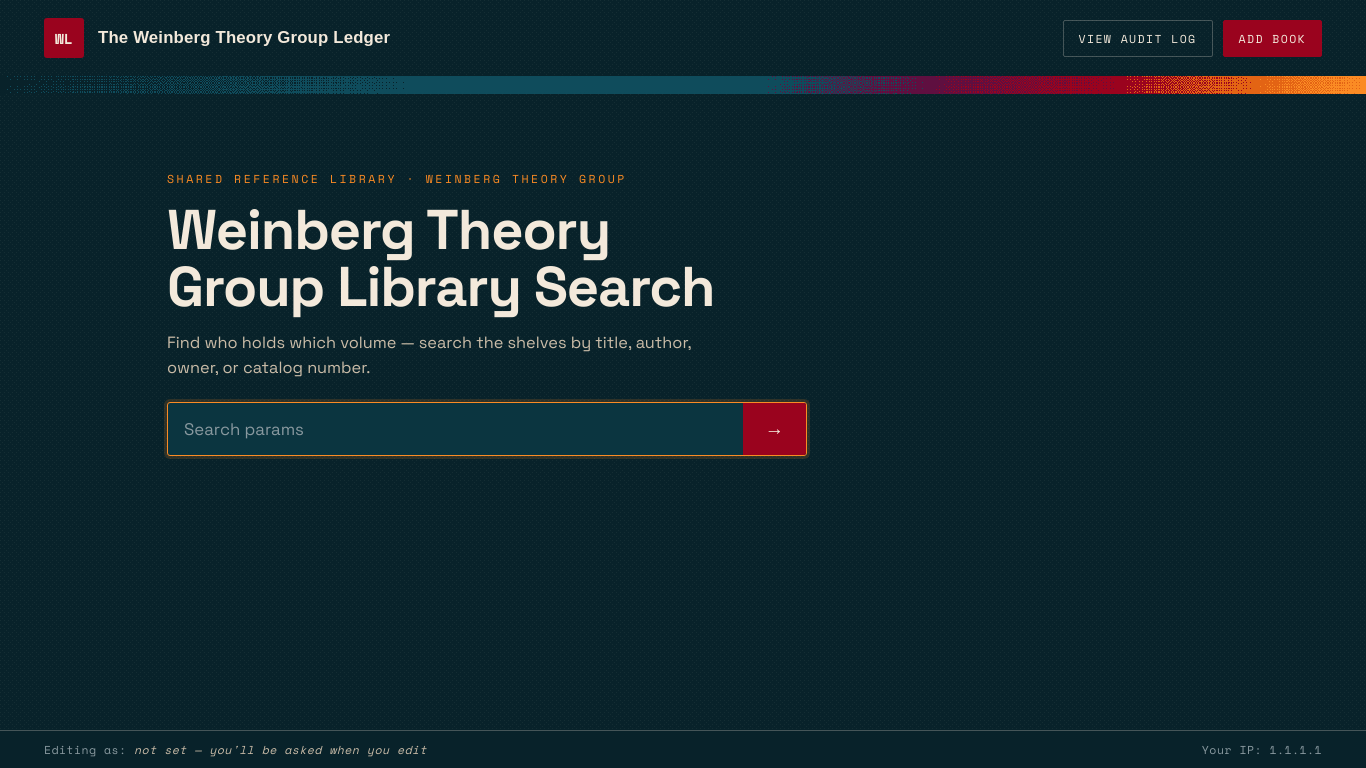
Scenario: App › clicking the title returns to a fresh home (clears results + query)
Type "qm" into the field with placeholder "Search params" at (455, 429), box x1=168 y1=403 x2=743 y2=455
Then press Enter
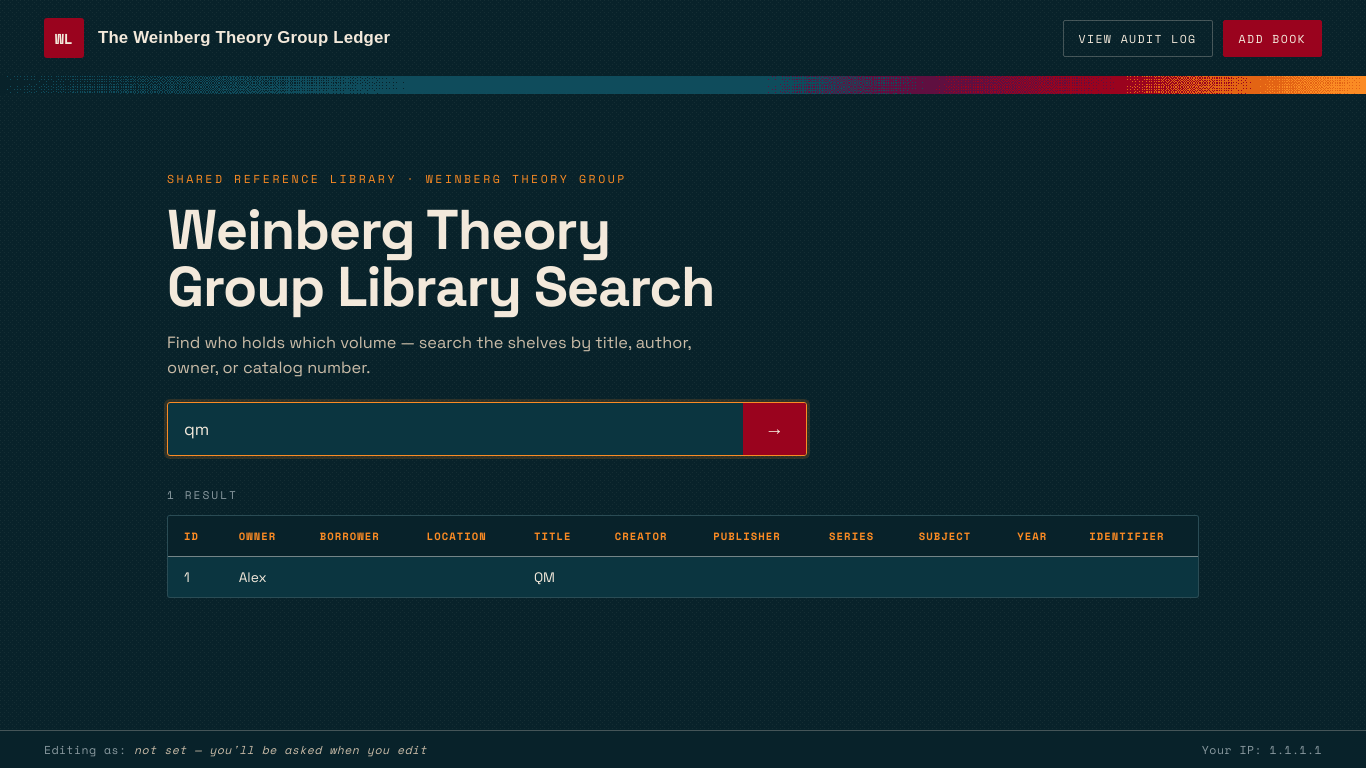
Expected: the text "QM" is shown, x1=518 y1=557 x2=599 y2=597
Click the heading "Weinberg Theory Group Library Search" at (457, 258), box x1=167 y1=201 x2=748 y2=315
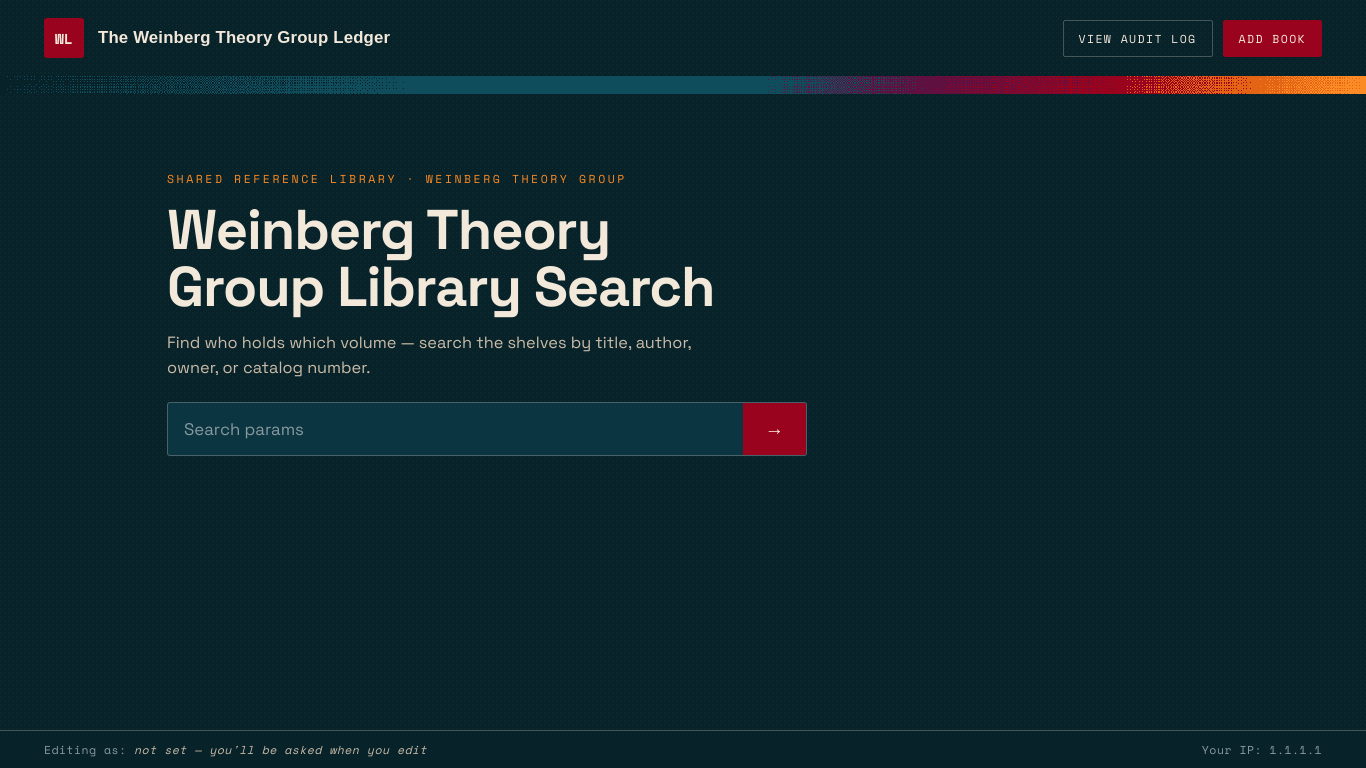
Expected: the text "QM" is gone
Expected: the field with placeholder "Search params" is empty, x1=168 y1=403 x2=743 y2=455
